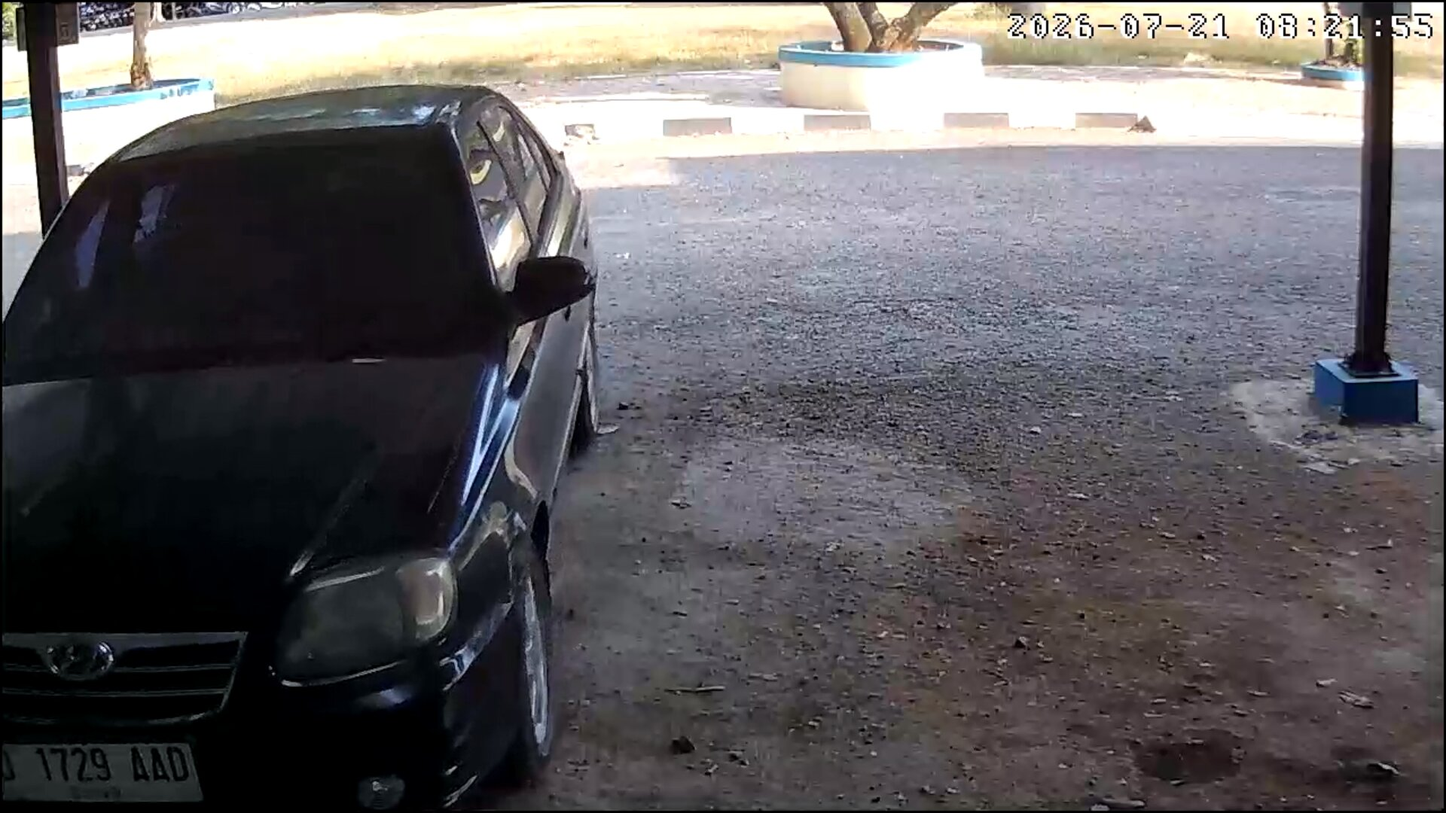plat nomor: (0, 740, 205, 804)
